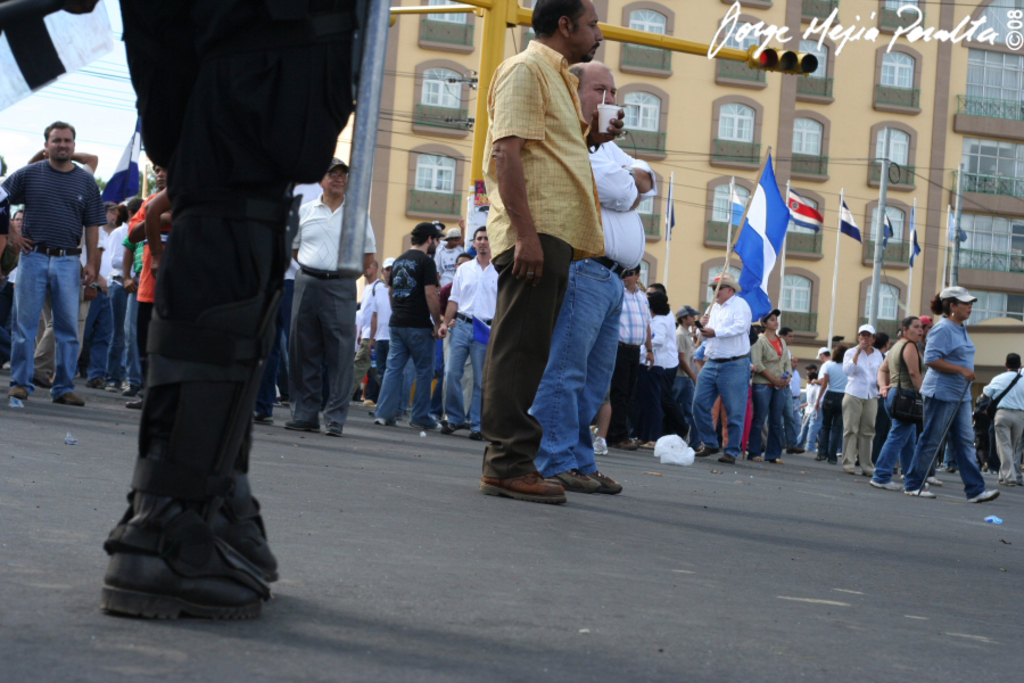Footwear: (99, 472, 278, 623), (481, 469, 569, 502), (554, 468, 602, 491), (593, 467, 622, 491), (25, 373, 51, 388), (693, 446, 717, 462), (907, 488, 938, 500), (972, 489, 1004, 500), (283, 421, 321, 430), (410, 415, 431, 428), (57, 395, 84, 405), (869, 479, 899, 488), (325, 422, 345, 435), (437, 423, 468, 431), (616, 439, 635, 452), (597, 438, 610, 456), (717, 454, 740, 464), (372, 415, 391, 427), (250, 414, 276, 422), (784, 444, 806, 453), (9, 384, 19, 401), (127, 400, 142, 411), (86, 378, 105, 386), (108, 381, 121, 392), (843, 467, 857, 475), (864, 472, 873, 479), (930, 477, 941, 482), (466, 434, 482, 437), (812, 458, 823, 461), (831, 461, 837, 466)
